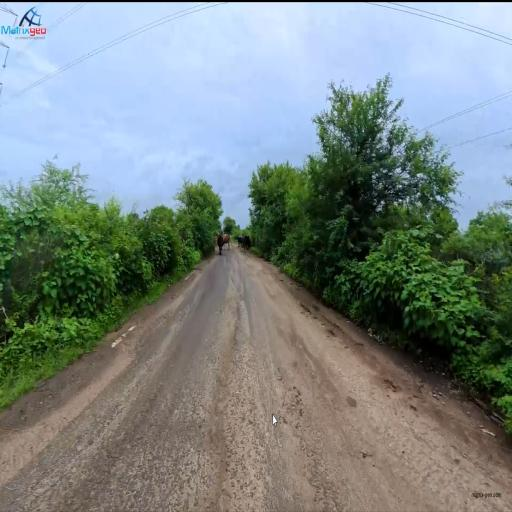ravelling: (152, 358, 363, 488)
